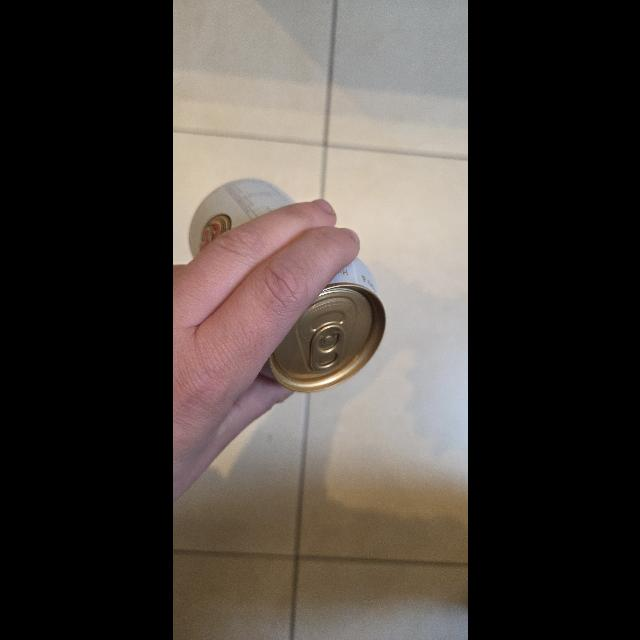Metal: (187, 181, 386, 393)
